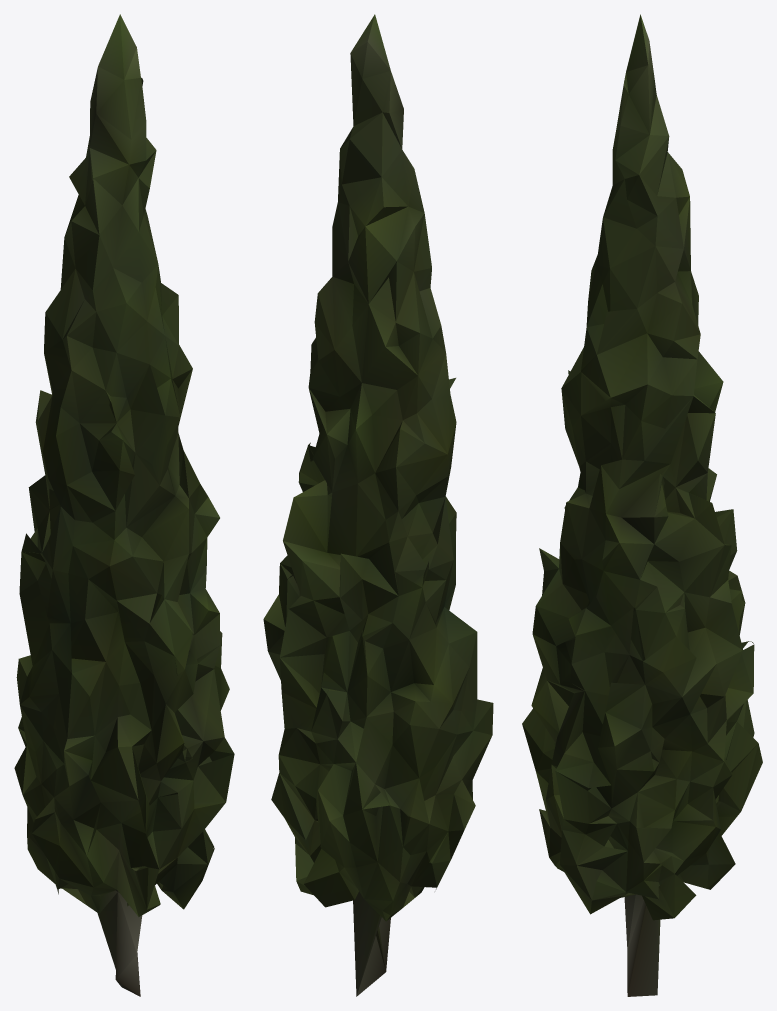
File: lib_tp_bachy.vc2.glb
3 renders of one model, left to right at view 1: azimuth 30°, elevation 25°; view 2: azimuth 150°, elevation 25°; view 3: azimuth 270°, elevation 25°, orthographic.
Visible parts, largest first — view 1: lib_tp_bachy; view 2: lib_tp_bachy; view 3: lib_tp_bachy.
Part boxes in pixels (x1,y1,x2,y2): lib_tp_bachy: (14,14,234,996); lib_tp_bachy: (263,14,493,996); lib_tp_bachy: (522,14,762,996).
Size of the model in its own units: 0.4018 by 1.98 by 0.4437.
